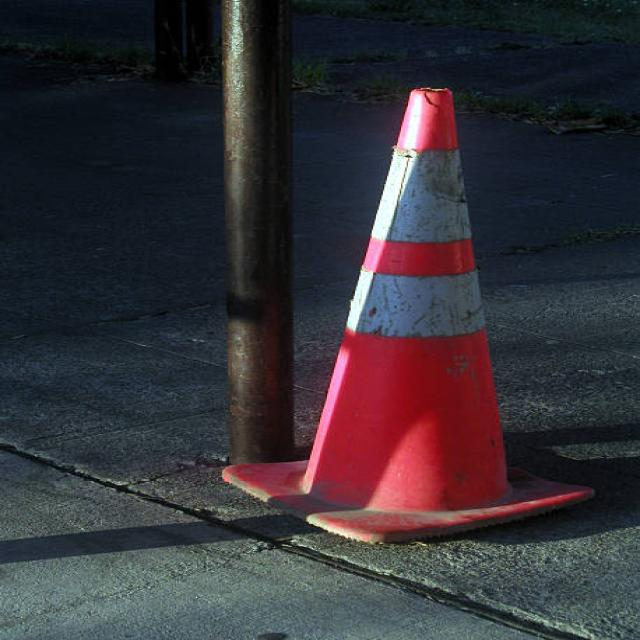Traffic Cone: (207, 68, 617, 551)
